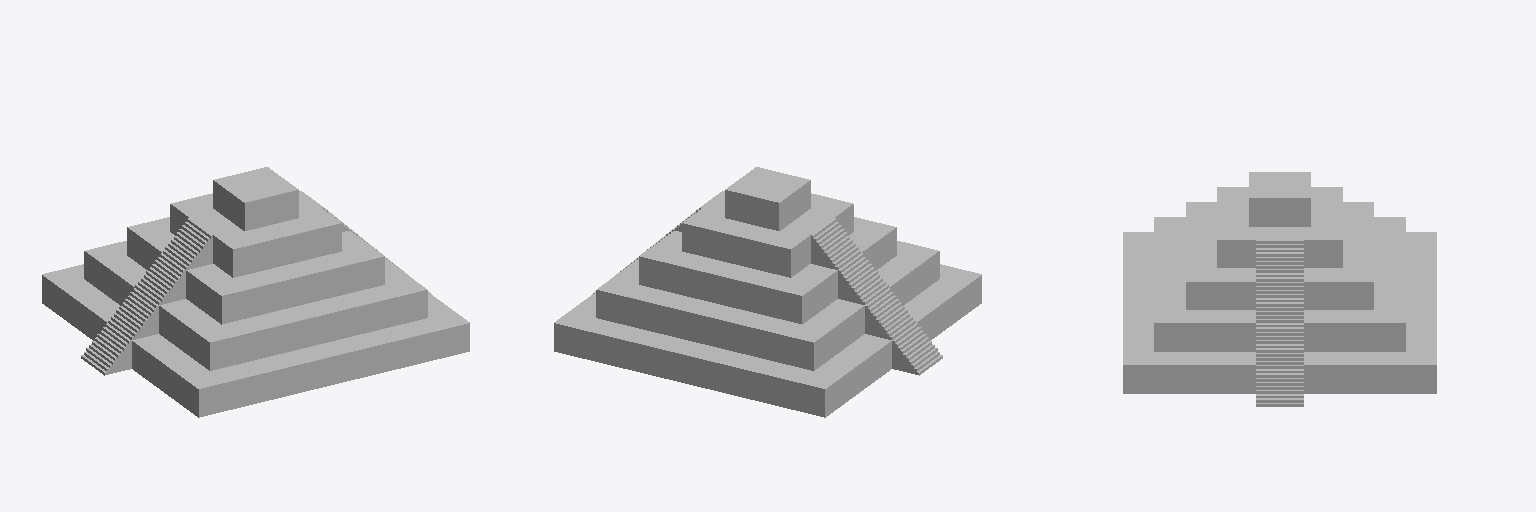
File: temple_good2.obj
3 views of the same model, side by side, from view 1: azimuth 30°, elevation 25°; view 2: azimuth 150°, elevation 25°; view 3: azimuth 270°, elevation 25° (orthographic).
Size of the model in its own units: 24 by 10 by 20.